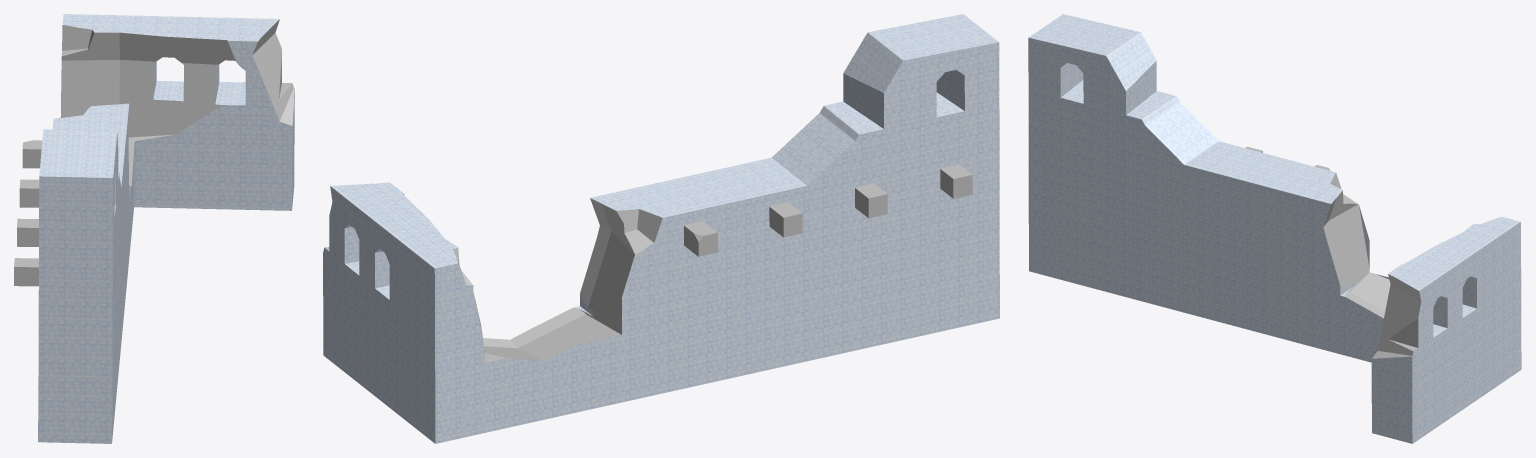
The model's file is Fort1.fbx.
The picture shows the model from 3 angles, left to right: view 1: azimuth 30°, elevation 25°; view 2: azimuth 150°, elevation 25°; view 3: azimuth 270°, elevation 25°; orthographic projection. The views are drawn at different scales.
Parts seen in each view (by area): view 1: FortWall; view 2: FortWall; view 3: FortWall.
Boxes of the visible parts, bbox=[...] form: FortWall: bbox=[14, 14, 294, 443]; FortWall: bbox=[323, 14, 999, 443]; FortWall: bbox=[1028, 14, 1521, 443].
Size of the model in its own units: 2481 by 1408 by 2647.
